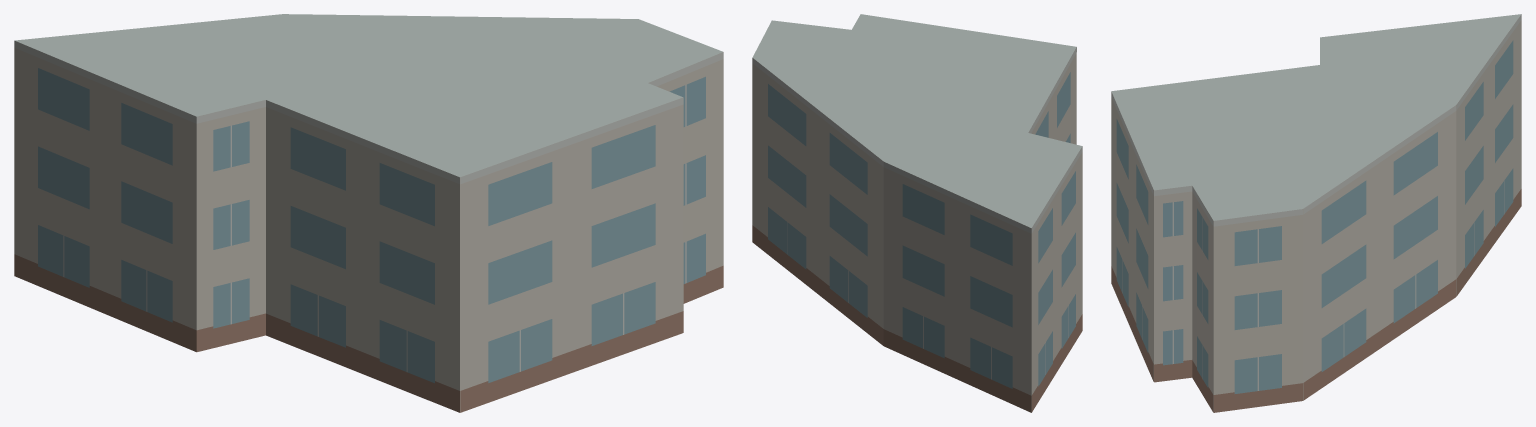
File: survey-upis-32497536.glb
3 views of the same model, side by side, from view 1: azimuth 30°, elevation 25°; view 2: azimuth 150°, elevation 25°; view 3: azimuth 270°, elevation 25° (orthographic). The views are drawn at different scales.
Visible parts, largest first — view 1: survey-upis-32497536.tmp; view 2: survey-upis-32497536.tmp; view 3: survey-upis-32497536.tmp.
Boxes of the visible parts, x1,y1,x2,y2 form: survey-upis-32497536.tmp: (14,14,723,412); survey-upis-32497536.tmp: (752,14,1082,412); survey-upis-32497536.tmp: (1111,14,1521,412).
Bounding box in the file's own units: 18.74 × 8.1 × 15.7.
